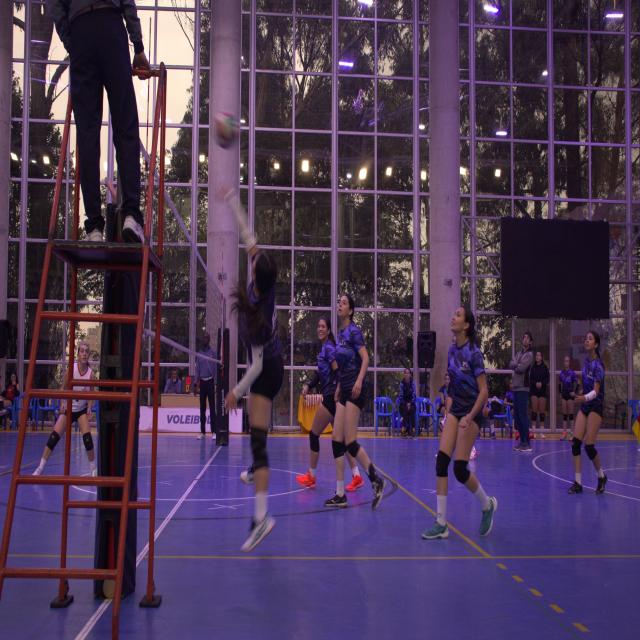volleyball: (210, 110, 242, 150)
